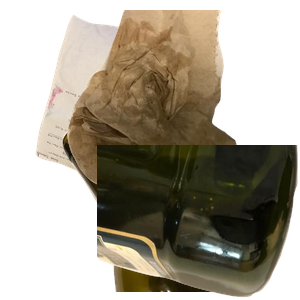glass: (60, 120, 300, 300)
paper: (33, 12, 214, 192)
plastic: (97, 145, 300, 300)
trash: (65, 10, 300, 190)
